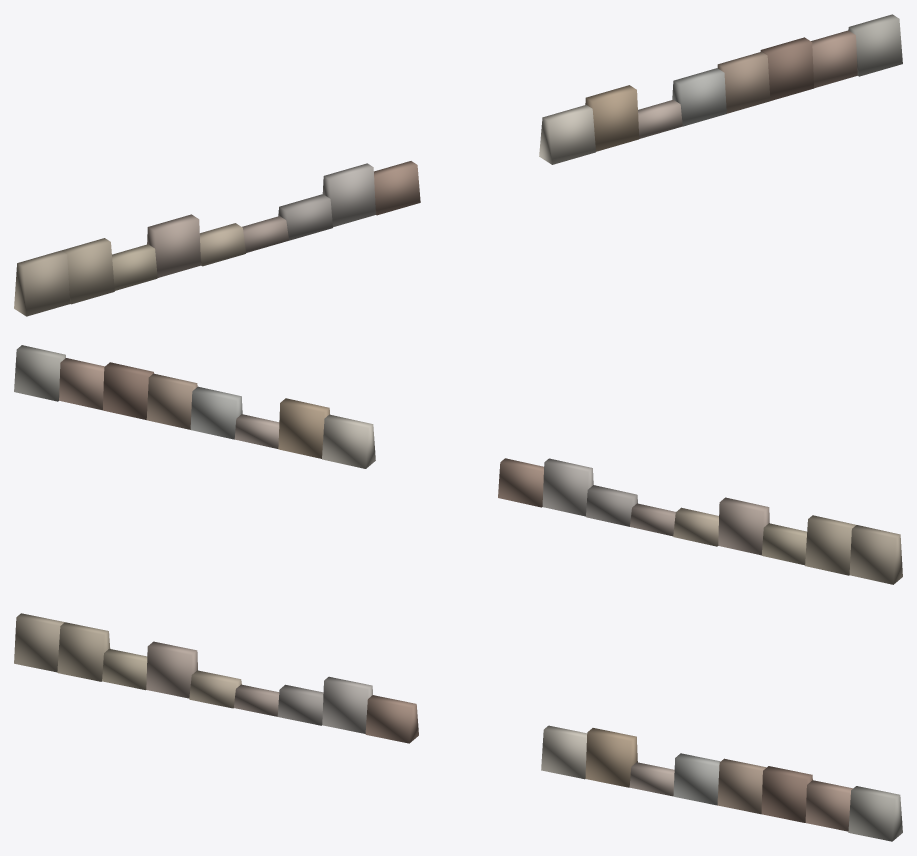
The model's file is farm_19_19_collision.glb.
The picture shows the model from 3 angles, top to bottom: view 1: azimuth 30°, elevation 25°; view 2: azimuth 150°, elevation 25°; view 3: azimuth 330°, elevation 25°; orthographic projection. The views are drawn at different scales.
Parts seen in each view (by area): view 1: geometry_0; view 2: geometry_0; view 3: geometry_0.
Part boxes in pixels (box(x1,y1,x2,y2)): geometry_0: box(14, 14, 902, 316); geometry_0: box(14, 345, 902, 584); geometry_0: box(14, 613, 902, 841).
Bounding box in the file's own units: 30.85 × 1.75 × 2.57.
